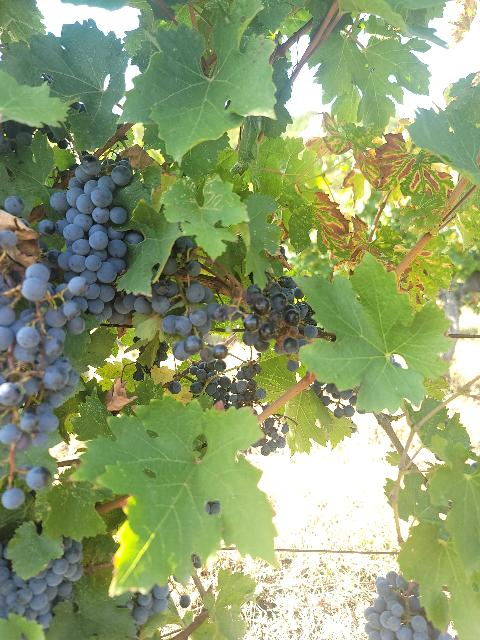grapes: (0, 211, 89, 509), (50, 154, 132, 302), (0, 540, 82, 629), (365, 571, 458, 640), (243, 276, 309, 355)
